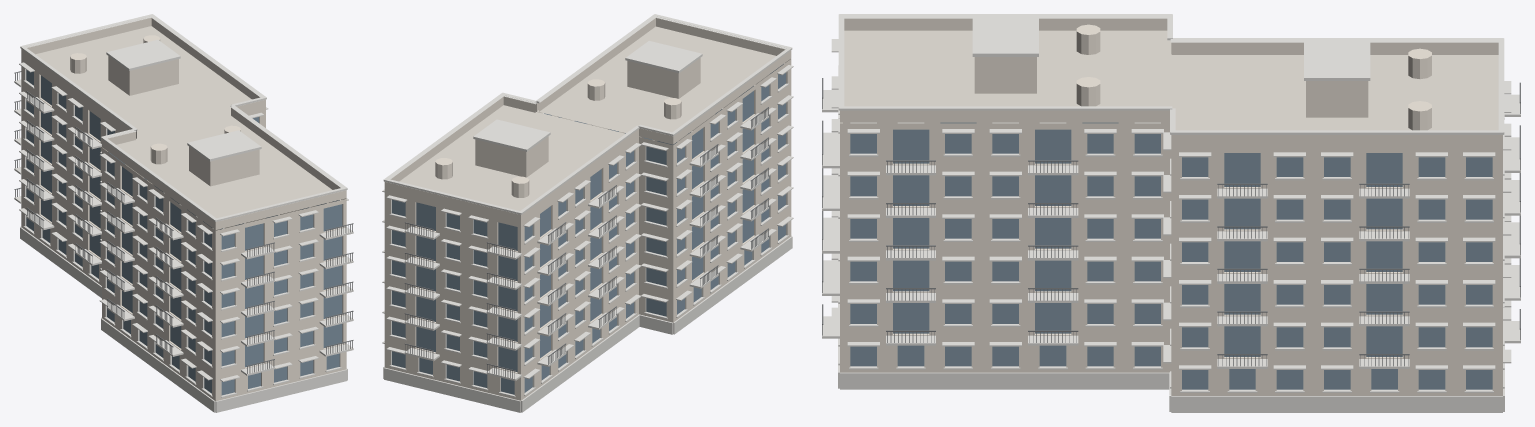
File: Faculty_Residence_5.fbx
3 views of the same model, side by side, from view 1: azimuth 30°, elevation 25°; view 2: azimuth 150°, elevation 25°; view 3: azimuth 270°, elevation 25° (orthographic). The views are drawn at different scales.
Parts seen in each view (by area): view 1: Faculty_Residence_5; view 2: Faculty_Residence_5; view 3: Faculty_Residence_5.
Part boxes in pixels (x1=…): Faculty_Residence_5: x1=14, y1=14, x2=353, y2=412; Faculty_Residence_5: x1=382, y1=14, x2=793, y2=412; Faculty_Residence_5: x1=822, y1=14, x2=1520, y2=412.
Size of the model in its own units: 22.6 by 24.51 by 50.6.
